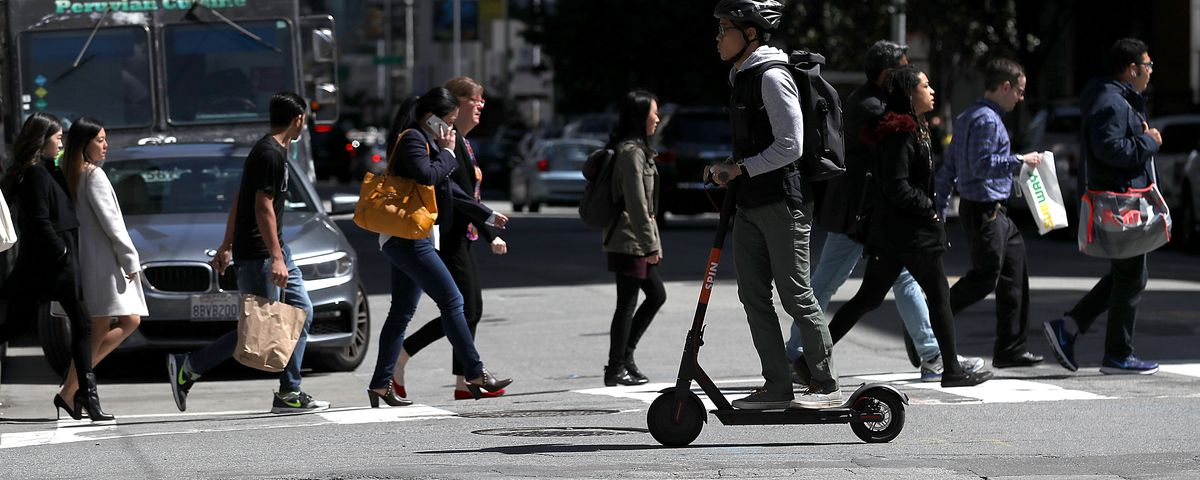person: (1079, 38, 1156, 380), (954, 58, 1034, 380), (596, 90, 662, 387)
